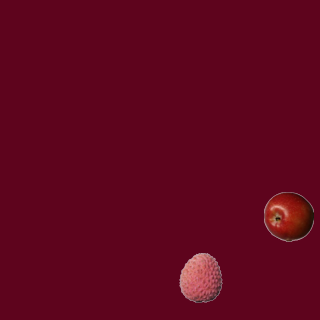Apple Braeburn: (263, 191, 313, 241)
Lychee: (175, 252, 225, 302)
